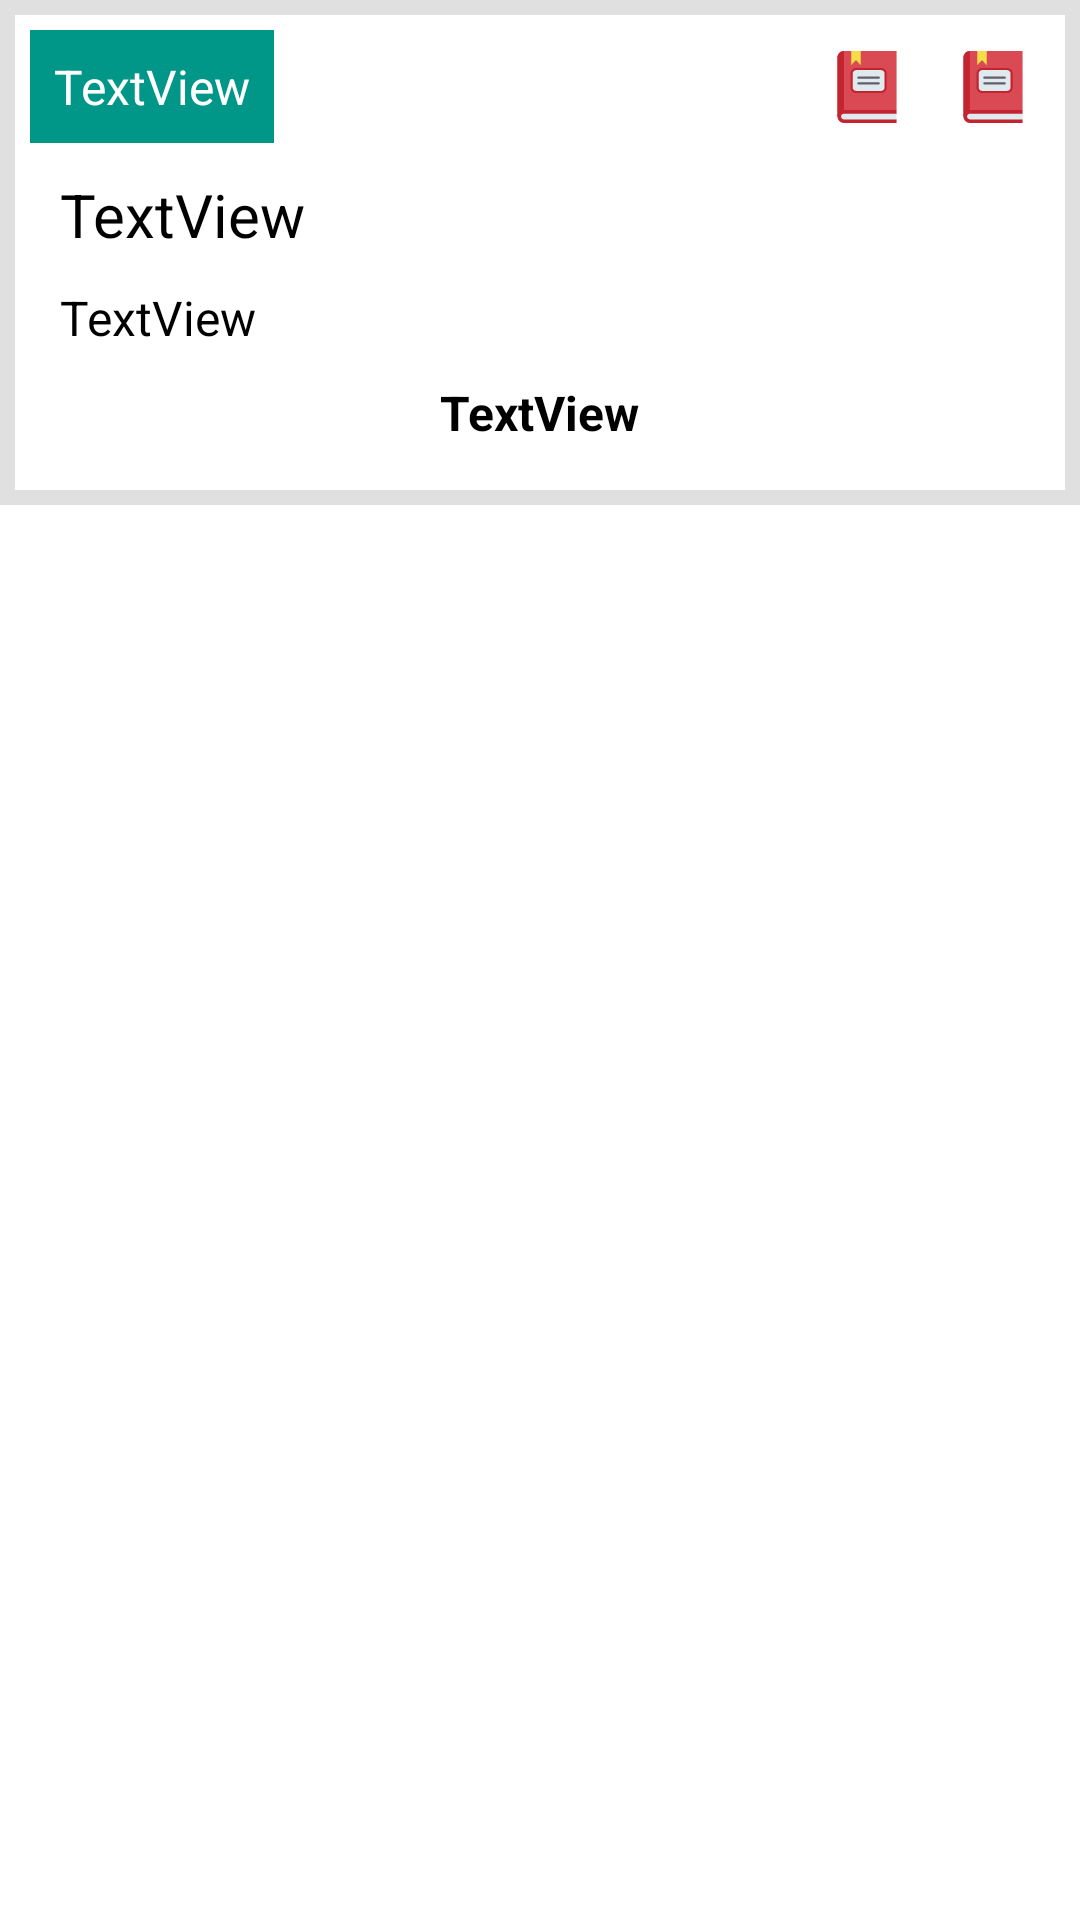

Locate icon controls on the screen. Image size 1080px x 1920px, boxes as [x1,y1,x2,y2].
book: [837,51,897,123], [963,51,1023,123]
